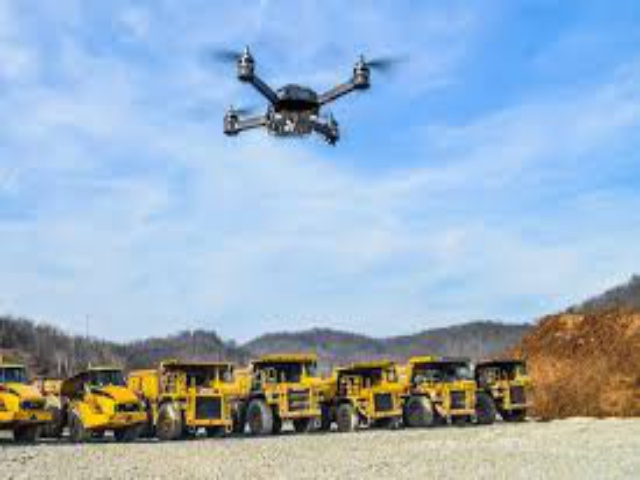drone: (192, 30, 418, 157)
